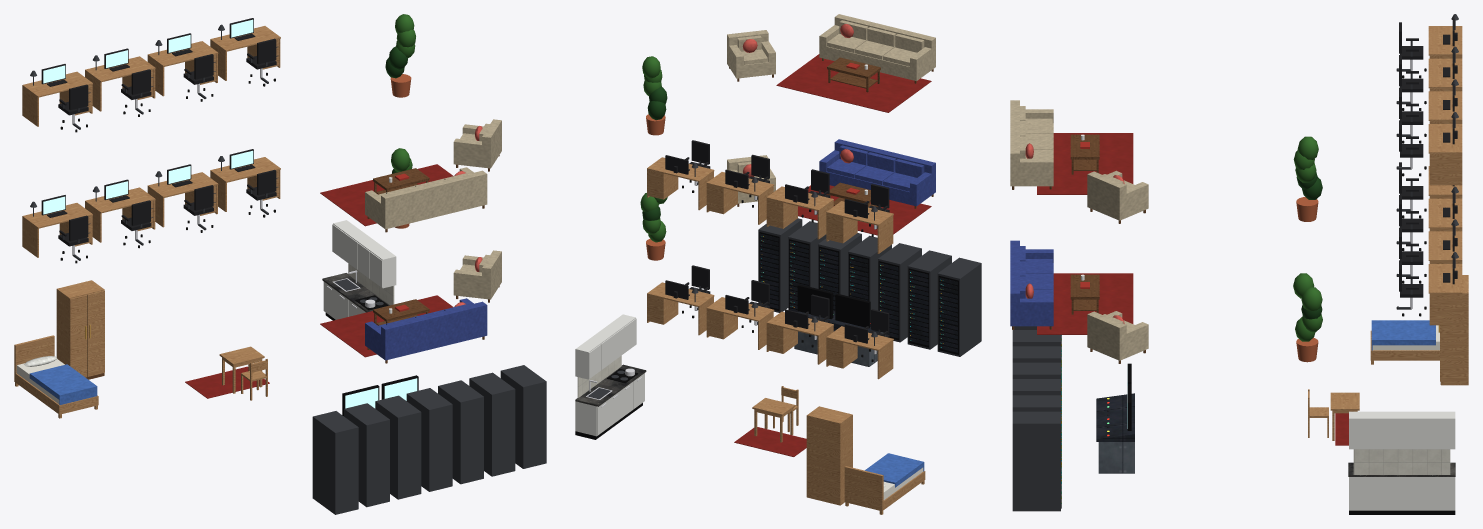
File: i_stream_studio.gltf
3 views of the same model, side by side, from view 1: azimuth 30°, elevation 25°; view 2: azimuth 150°, elevation 25°; view 3: azimuth 270°, elevation 25° (orthographic). The views are drawn at different scales.
Parts seen in each view (by area): view 1: I_stream_studio; view 2: I_stream_studio; view 3: I_stream_studio.
Part boxes in pixels (left/top/right/bottom): I_stream_studio: left=14, top=14, right=546, bottom=514; I_stream_studio: left=575, top=14, right=981, bottom=514; I_stream_studio: left=1010, top=14, right=1468, bottom=514.
Size of the model in its own units: 8.35 by 8.51 by 9.49.
33 materials, 12 textured.
